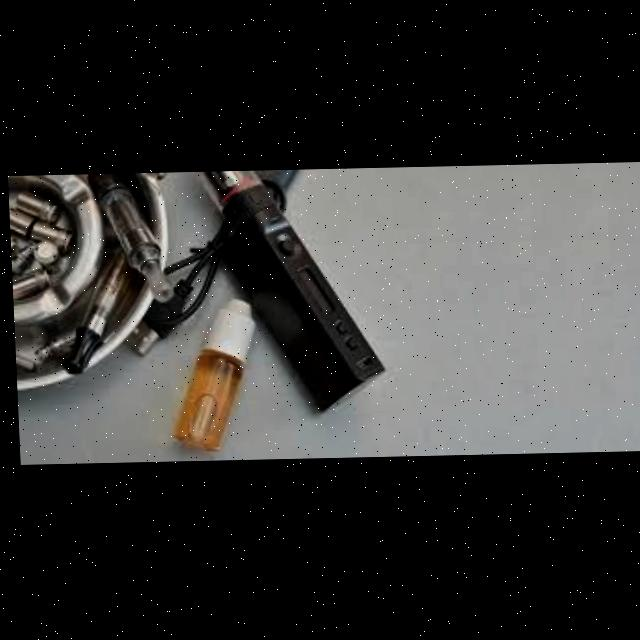vape: (198, 169, 387, 417), (87, 173, 174, 305), (58, 245, 138, 374)
